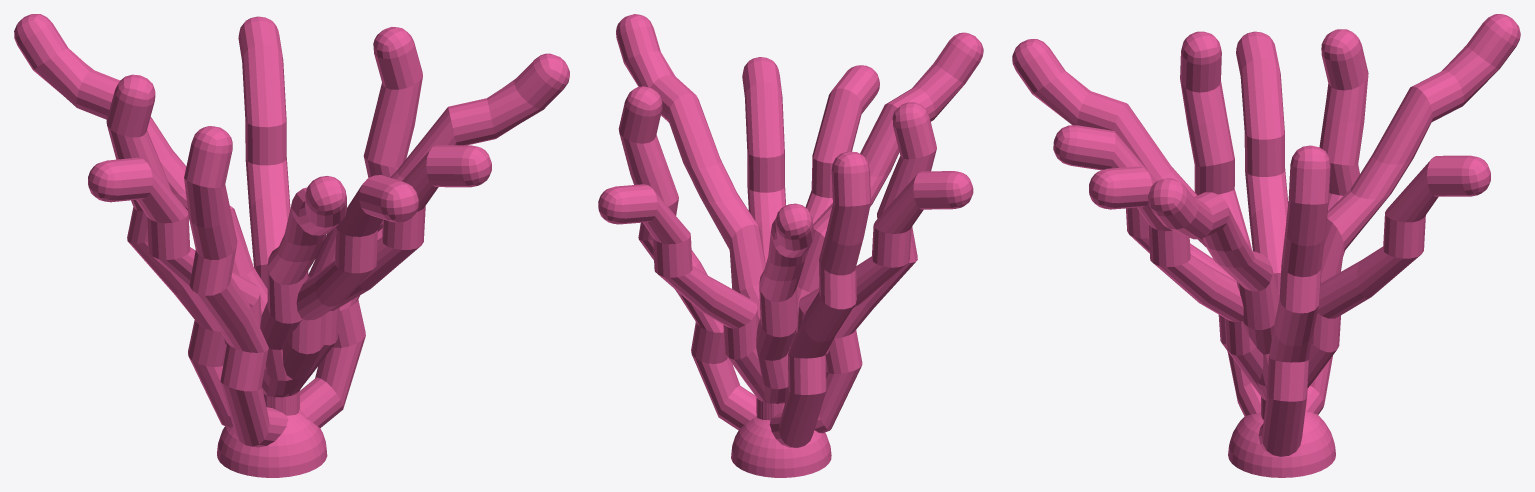
The picture shows the model from 3 angles, left to right: view 1: azimuth 30°, elevation 25°; view 2: azimuth 150°, elevation 25°; view 3: azimuth 270°, elevation 25°; orthographic projection. The views are drawn at different scales.
Parts seen in each view (by area): view 1: Cube.002; view 2: Cube.002; view 3: Cube.002.
Part boxes in pixels (bbox=[...]): Cube.002: bbox=[14, 14, 569, 477]; Cube.002: bbox=[598, 14, 983, 477]; Cube.002: bbox=[1012, 14, 1520, 477].
Size of the model in its own units: 1.07 by 0.9181 by 1.12.
